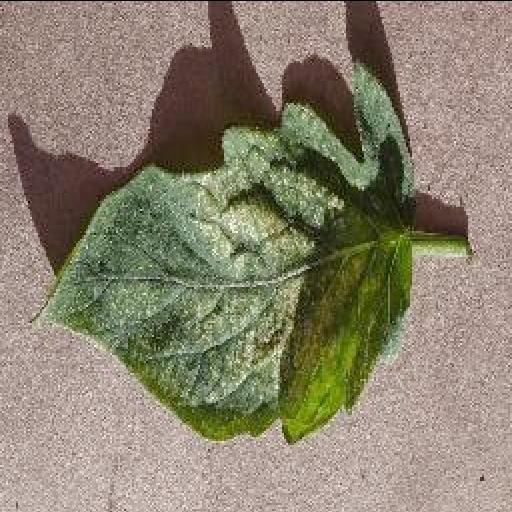disease_tomato: (34, 58, 416, 444)
